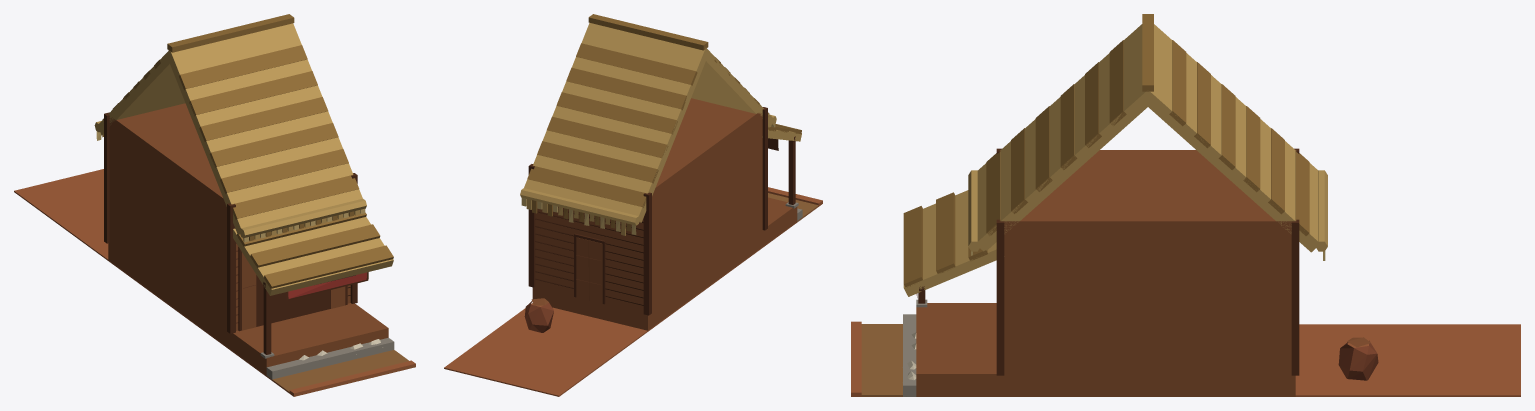
File: bay2_mid.glb
3 views of the same model, side by side, from view 1: azimuth 30°, elevation 25°; view 2: azimuth 150°, elevation 25°; view 3: azimuth 270°, elevation 25° (orthographic). The views are drawn at different scales.
Visible parts, largest first — view 1: body; view 2: body; view 3: body.
Part boxes in pixels (<box>): body: <box>14,14,415,396</box>; body: <box>444,14,822,396</box>; body: <box>851,14,1520,396</box>.
Size of the model in its own units: 4.18 by 8.17 by 15.9.
